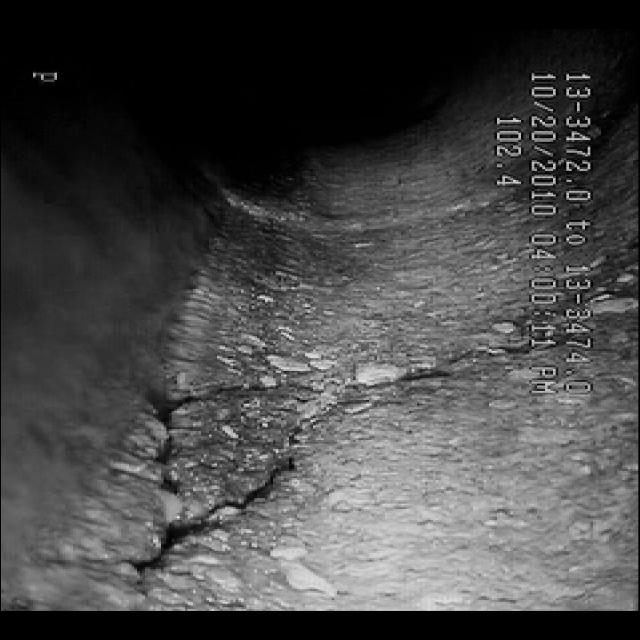Fracture: (122, 334, 517, 566)
